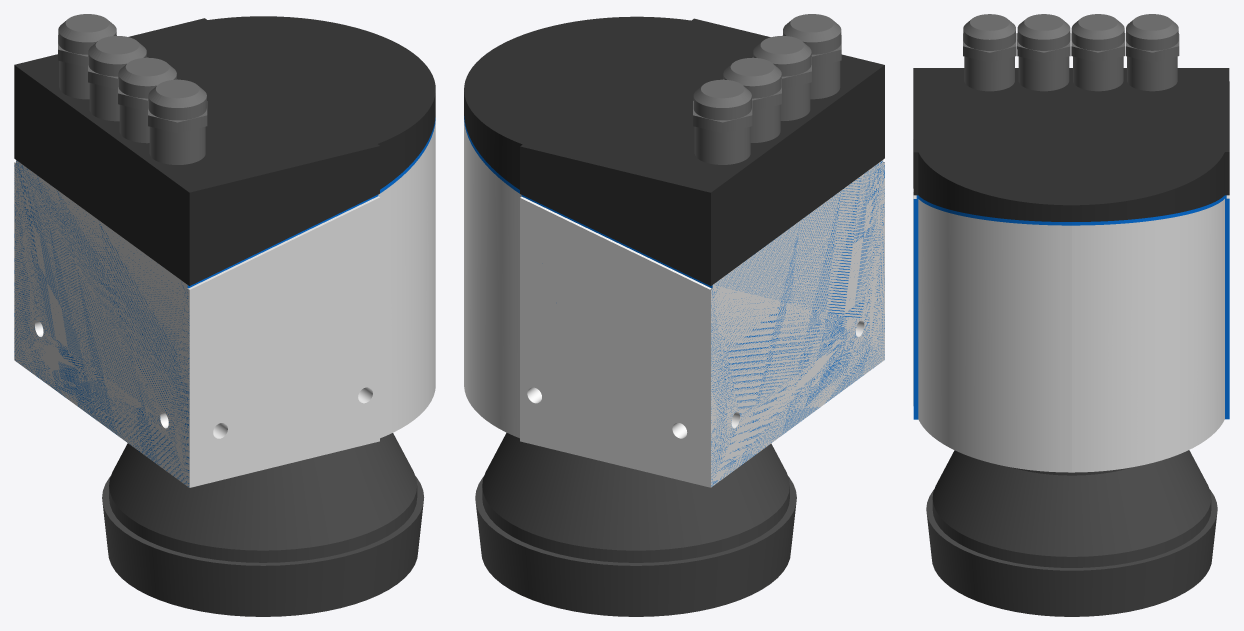
File: sick_lms1xx.dae
The picture shows the model from 3 angles, left to right: view 1: azimuth 30°, elevation 25°; view 2: azimuth 150°, elevation 25°; view 3: azimuth 270°, elevation 25°; orthographic projection. The views are drawn at different scales.
Parts seen in each view (by area): view 1: SketchUp (×4), group_0, group_2 (×9); view 2: SketchUp (×4), group_0, group_2 (×9); view 3: SketchUp (×3), group_0, group_2 (×12).
Part boxes in pixels (x1,y1,x2,y2): SketchUp (×4): (14, 16, 435, 487); group_0: (102, 433, 424, 616); group_2 (×9): (58, 14, 207, 164); SketchUp (×4): (464, 16, 884, 487); group_0: (475, 432, 796, 616); group_2 (×9): (693, 14, 841, 164); SketchUp (×3): (913, 68, 1229, 472); group_0: (926, 450, 1217, 616); group_2 (×12): (963, 14, 1179, 91).
Size of the model in its own units: 4.14 by 4.03 by 6.82.
